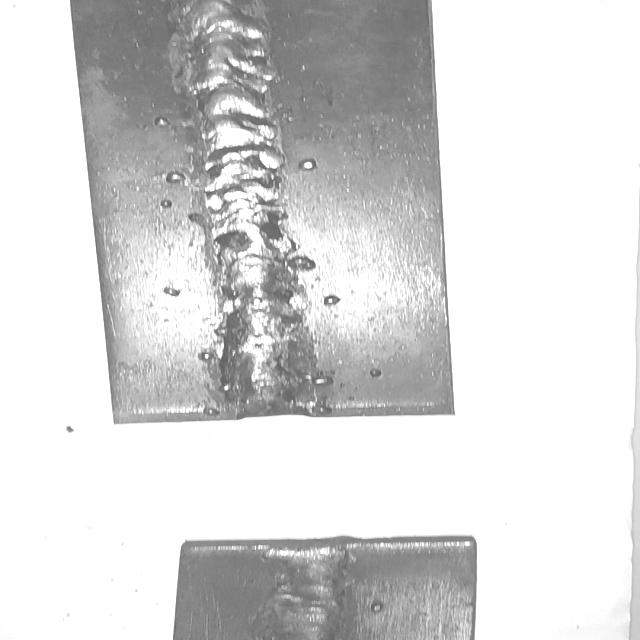Bad Weld: (175, 0, 327, 404)
Defect: (202, 338, 326, 413), (192, 200, 306, 268), (272, 549, 347, 640)
